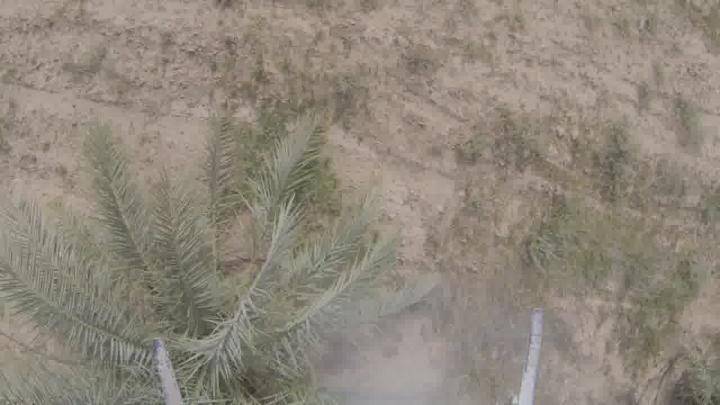Date-Palm-Crown: (59, 179, 366, 405)
